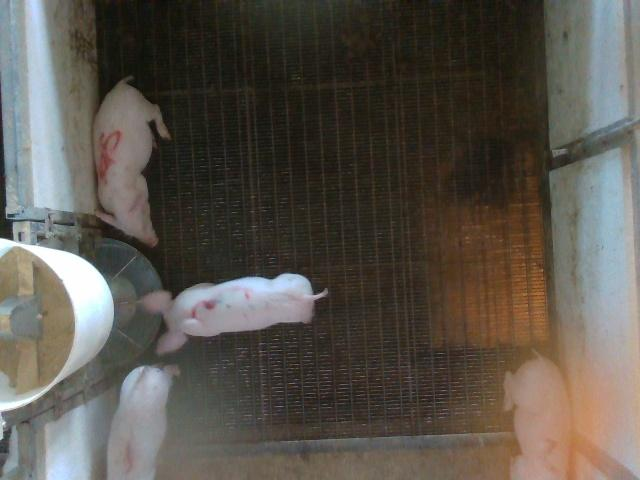pig-1: (108, 365, 180, 479)
pig-2: (504, 352, 571, 479)
pig-3: (141, 274, 328, 354)
pig-5: (94, 76, 171, 247)
